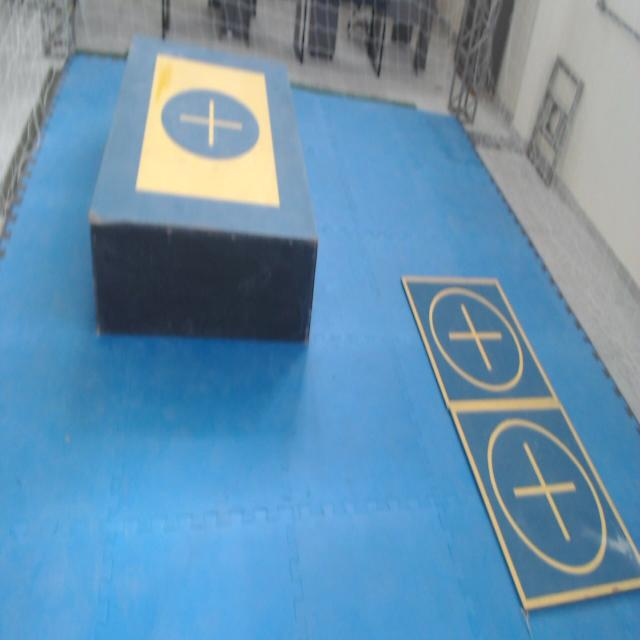base_inicio: (135, 52, 281, 208)
base_pouso: (449, 396, 640, 614), (401, 277, 560, 408)
